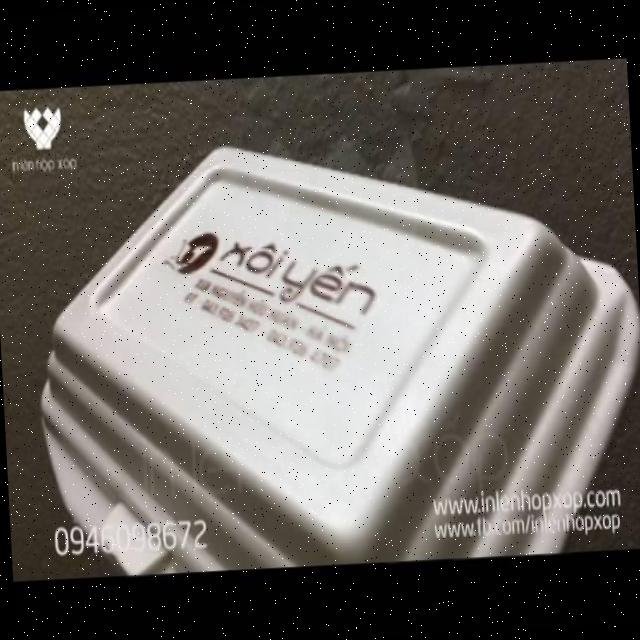styrofoam: (24, 121, 640, 580)
